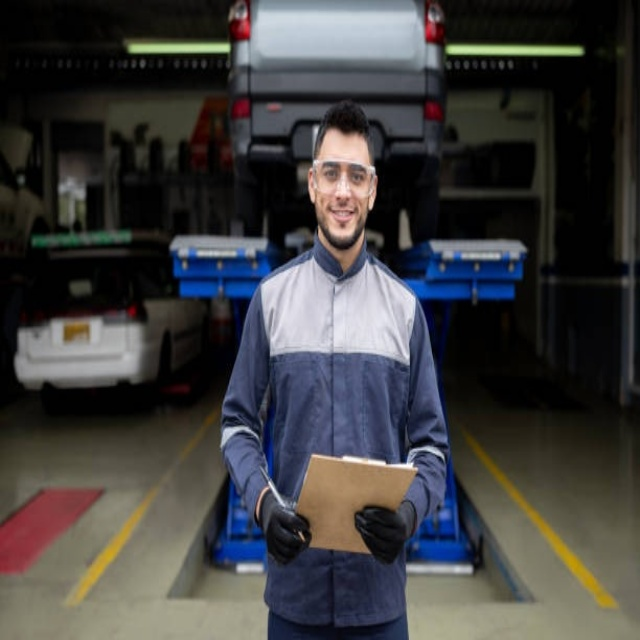Gafas: (313, 158, 376, 196)
Guantes: (354, 497, 417, 566), (256, 487, 311, 566)
Sin_mascara: (324, 202, 359, 238)
